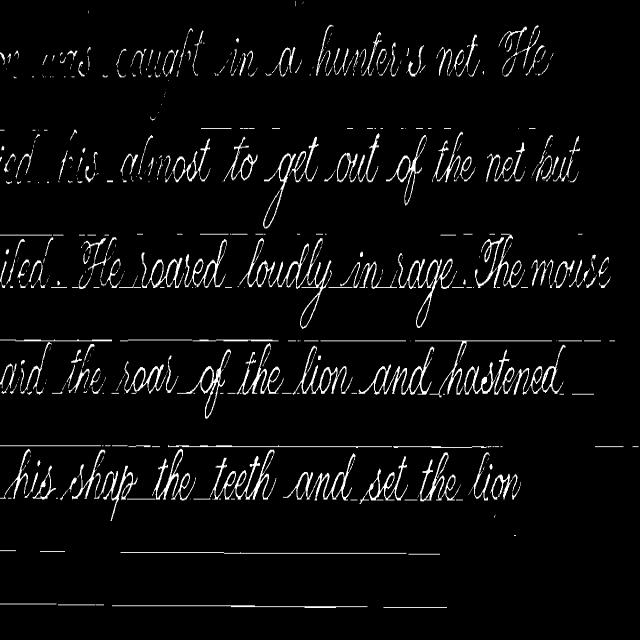noise: (0, 131, 100, 185), (0, 47, 92, 78), (119, 549, 440, 557), (109, 601, 369, 610), (168, 444, 503, 450), (0, 337, 279, 343), (416, 340, 602, 346), (0, 443, 160, 449), (0, 602, 107, 607), (201, 124, 258, 132), (0, 548, 65, 554), (450, 274, 476, 289), (303, 340, 407, 343), (381, 605, 446, 609), (591, 444, 640, 449), (441, 231, 472, 236), (51, 281, 67, 288), (51, 390, 63, 396), (608, 333, 616, 342), (571, 392, 594, 395), (260, 127, 280, 130), (177, 392, 192, 395), (136, 232, 144, 236), (176, 232, 184, 236), (282, 392, 292, 395), (444, 127, 452, 130), (106, 180, 114, 183), (350, 390, 358, 393), (346, 127, 354, 130), (416, 127, 423, 130), (576, 233, 583, 236), (366, 127, 376, 129), (103, 74, 108, 77), (71, 286, 78, 288), (528, 127, 536, 128)
not-noise: (0, 234, 456, 289), (116, 24, 496, 78), (261, 132, 476, 205), (440, 341, 565, 395), (61, 450, 128, 521), (485, 136, 580, 183), (120, 136, 212, 182), (358, 348, 434, 395), (210, 450, 275, 499), (496, 25, 554, 77), (294, 346, 351, 394), (0, 342, 52, 394), (532, 254, 609, 288), (5, 449, 54, 499), (286, 466, 352, 500), (117, 356, 177, 393), (471, 452, 518, 499), (475, 235, 517, 287), (154, 448, 196, 500), (243, 343, 282, 394), (66, 342, 104, 394), (364, 457, 408, 500), (194, 356, 224, 418), (418, 452, 456, 500), (220, 136, 259, 181), (0, 360, 44, 394), (508, 260, 524, 287)
